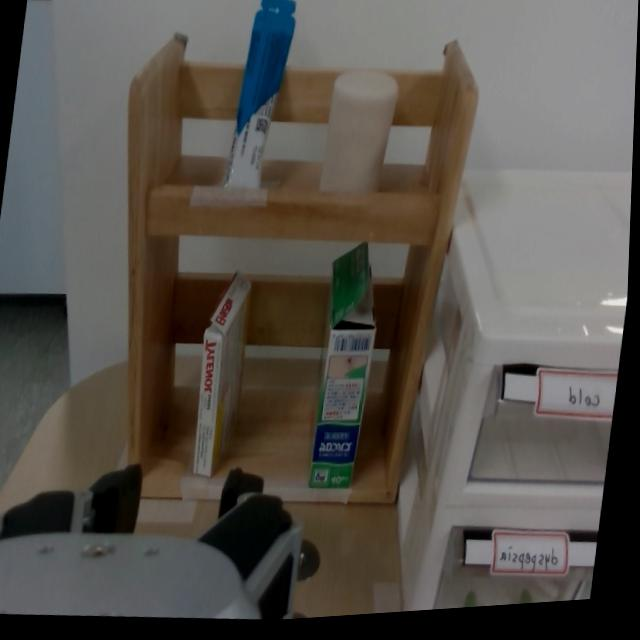bandage: (312, 60, 401, 207)
codaewon_syrup: (221, 0, 302, 204)
sore_patch: (304, 242, 387, 494)
tylenol: (184, 269, 250, 487)
